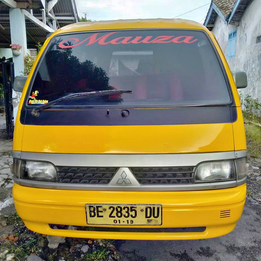plate: (83, 203, 166, 226)
